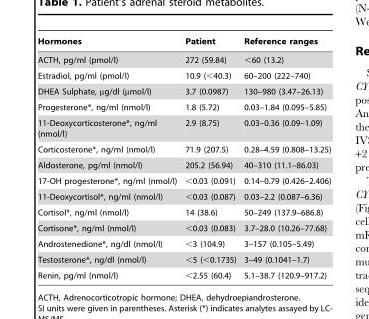table: (37, 36, 330, 279)
table column: (37, 36, 180, 279), (239, 36, 330, 279), (180, 36, 239, 279)
table column header: (37, 36, 330, 50)
table row: (37, 114, 330, 141), (37, 50, 330, 67), (37, 82, 330, 99), (37, 141, 330, 157), (37, 172, 330, 188), (37, 188, 330, 204), (37, 204, 330, 220), (37, 235, 330, 251), (37, 251, 330, 267), (37, 67, 330, 82), (37, 99, 330, 114), (37, 157, 330, 172), (37, 220, 330, 235), (37, 36, 330, 50), (37, 267, 330, 279)
